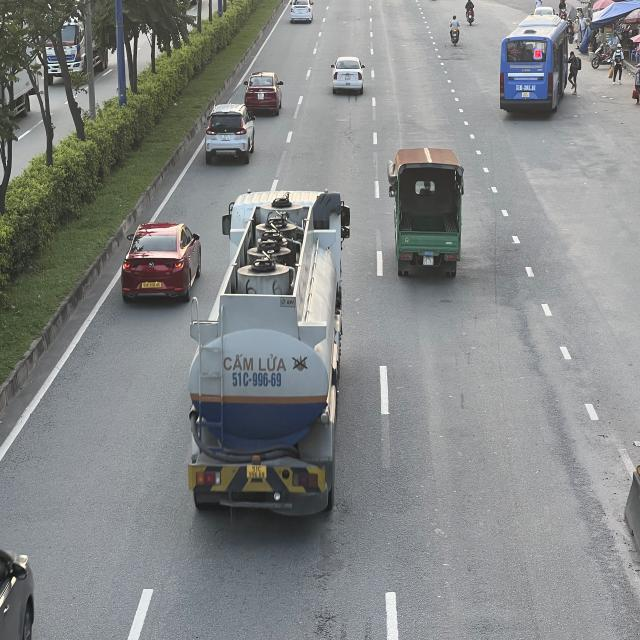car: (120, 224, 204, 308), (203, 104, 255, 166), (246, 74, 285, 117), (330, 57, 367, 97), (288, 0, 313, 25)
coach: (498, 15, 569, 115)
container: (192, 188, 352, 512)
truck: (390, 151, 464, 277)
